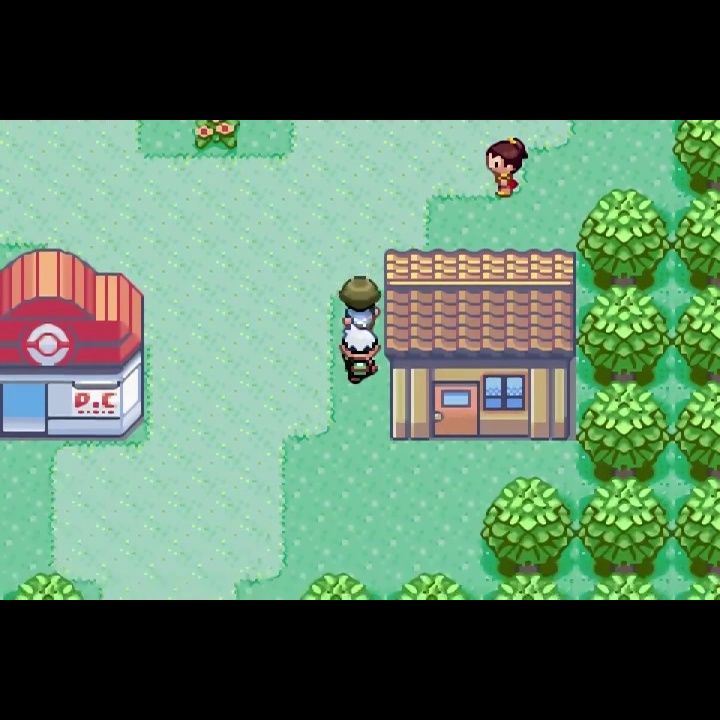house: (382, 248, 577, 443)
npc: (483, 136, 529, 201), (336, 275, 383, 325)
pokecen: (1, 245, 146, 440)
wall: (478, 476, 577, 574), (577, 187, 673, 286), (576, 476, 673, 573), (576, 381, 673, 477), (576, 285, 673, 381), (672, 284, 720, 382), (673, 187, 720, 287), (673, 475, 720, 573), (673, 381, 720, 476), (671, 120, 720, 188), (383, 572, 481, 600), (481, 573, 576, 599), (296, 571, 383, 599), (576, 573, 665, 600), (1, 571, 86, 599), (666, 573, 720, 600)
